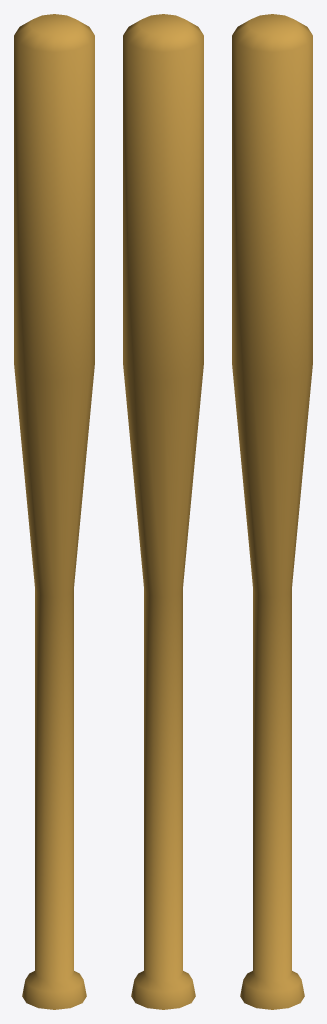
File: BaseballBat.FBX
3 renders of one model, left to right at view 1: azimuth 90°, elevation 25°; view 2: azimuth 150°, elevation 25°; view 3: azimuth 270°, elevation 25°, orthographic.
Visible parts, largest first — view 1: Cylinder01; view 2: Cylinder01; view 3: Cylinder01.
Part boxes in pixels (x1,y1,x2,y2): Cylinder01: (14, 14, 94, 1009); Cylinder01: (123, 14, 203, 1009); Cylinder01: (232, 14, 312, 1009).
Bounding box in the file's own units: 5.39 × 71.48 × 5.39.
